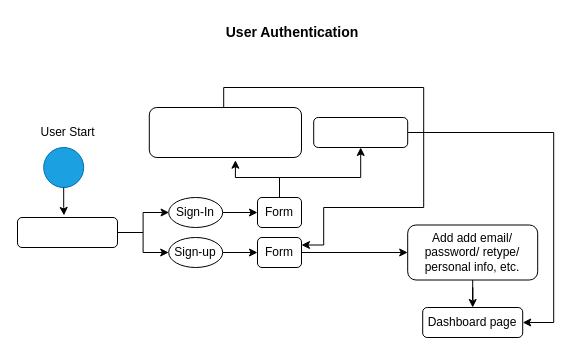
Some shapes in this 580 by 355 pixel diagram are drawn without their labels. Here are the shapes that lost their labels. From the top down, the box of each, then its label:
(148, 106, 302, 158): Forgot passowrd/ dont have an account? --> create account
(313, 116, 408, 148): Prompt email/ password
(16, 216, 118, 248): Landing page
